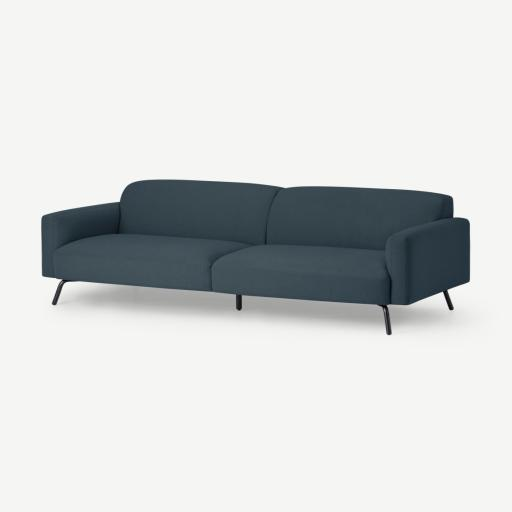back_cushion: (119, 180, 452, 250)
left_arm: (385, 218, 469, 309)
legs: (52, 280, 72, 305), (380, 305, 391, 335), (443, 290, 454, 310), (235, 295, 242, 310)
right_arm: (42, 203, 120, 277)
seat_cushion: (57, 234, 391, 306)
two-seater: (0, 0, 511, 512)
